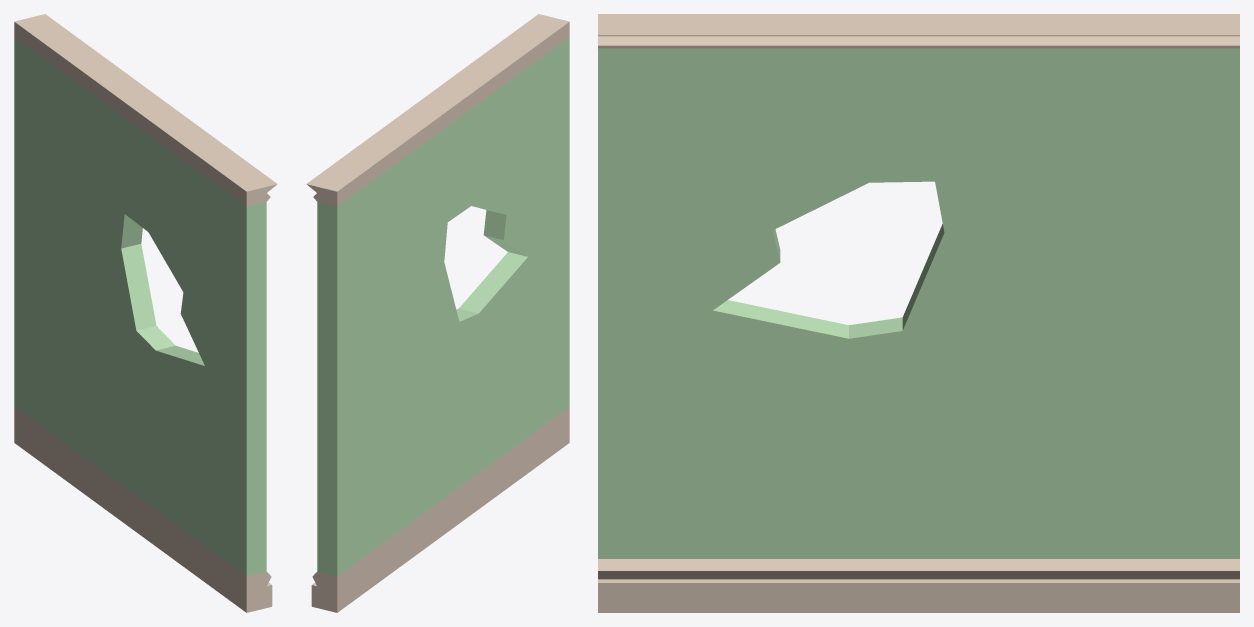
Rendered from Wall_SmallHole4.fbx.
3 renders of one model, left to right at view 1: azimuth 30°, elevation 25°; view 2: azimuth 150°, elevation 25°; view 3: azimuth 270°, elevation 25°, orthographic. The views are drawn at different scales.
Parts seen in each view (by area): view 1: Cube; view 2: Cube; view 3: Cube.
Part boxes in pixels (x1,y1,x2,y2): Cube: [14, 14, 277, 612]; Cube: [306, 14, 569, 612]; Cube: [598, 14, 1239, 612].
Bounding box in the file's own units: 61.8 × 800 × 800.
